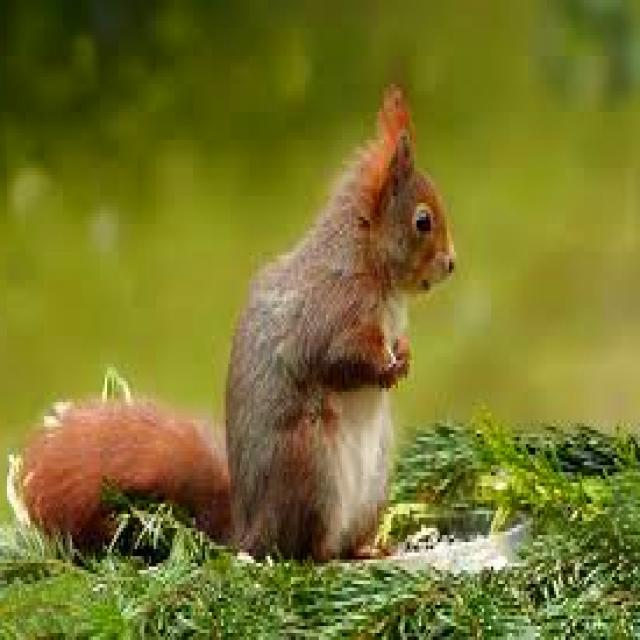squirrel: (12, 87, 456, 553)
